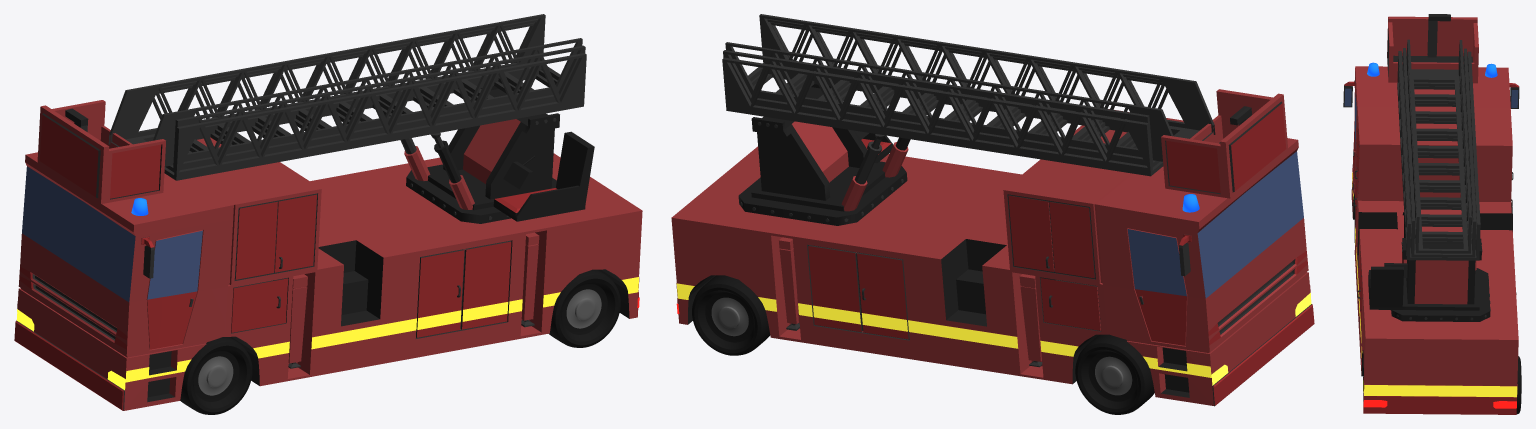
3 views of the same model, side by side, from view 1: azimuth 30°, elevation 25°; view 2: azimuth 150°, elevation 25°; view 3: azimuth 270°, elevation 25° (orthographic). The views are drawn at different scales.
Parts seen in each view (by area): view 1: Fire_Engine_Ladder_Body_0, Fire_Engine_Ladder_Ladder3_13, Fire_Engine_Ladder_Ladder1_11, Fire_Engine_Ladder_Plateform_18, Fire_Engine_Ladder_Ladder2_12, Fire_Engine_Ladder_Work_Plateform_19, Fire_Engine_Ladder_RF_Tire_4, Fire_Engine_Ladder_RB_Tire_3, Fire_Engine_Ladder_pilar_left_1_1_14, Fire_Engine_Ladder_pilar_left_2_1_15, Fire_Engine_Ladder_jack_left_7, Fire_Engine_Ladder_jack_right_9; view 2: Fire_Engine_Ladder_Body_0, Fire_Engine_Ladder_Ladder3_13, Fire_Engine_Ladder_Ladder1_11, Fire_Engine_Ladder_Plateform_18, Fire_Engine_Ladder_Ladder2_12, Fire_Engine_Ladder_Work_Plateform_19, Fire_Engine_Ladder_LF_Tire_2, Fire_Engine_Ladder_LB_Tire_1, Fire_Engine_Ladder_pilar_right_1_1_16, Fire_Engine_Ladder_pilar_right_2_1_17, Fire_Engine_Ladder_jack_right_9, Fire_Engine_Ladder_jack_left_7; view 3: Fire_Engine_Ladder_Body_0, Fire_Engine_Ladder_Plateform_18, Fire_Engine_Ladder_Ladder3_13, Fire_Engine_Ladder_Work_Plateform_19, Fire_Engine_Ladder_Ladder2_12, Fire_Engine_Ladder_Ladder1_11, Fire_Engine_Ladder_LB_Tire_1.
Part boxes in pixels (<box>): Fire_Engine_Ladder_Body_0: <box>14,137,642,410</box>; Fire_Engine_Ladder_Ladder3_13: <box>108,14,582,166</box>; Fire_Engine_Ladder_Ladder1_11: <box>152,22,586,180</box>; Fire_Engine_Ladder_Plateform_18: <box>406,86,594,223</box>; Fire_Engine_Ladder_Ladder2_12: <box>156,18,585,172</box>; Fire_Engine_Ladder_Work_Plateform_19: <box>37,100,165,203</box>; Fire_Engine_Ladder_RF_Tire_4: <box>180,337,252,414</box>; Fire_Engine_Ladder_RB_Tire_3: <box>548,269,620,347</box>; Fire_Engine_Ladder_pilar_left_1_1_14: <box>288,274,307,363</box>; Fire_Engine_Ladder_pilar_left_2_1_15: <box>521,232,539,320</box>; Fire_Engine_Ladder_jack_left_7: <box>434,140,474,209</box>; Fire_Engine_Ladder_jack_right_9: <box>400,138,430,181</box>; Fire_Engine_Ladder_Body_0: <box>671,109,1314,406</box>; Fire_Engine_Ladder_Ladder3_13: <box>725,14,1215,161</box>; Fire_Engine_Ladder_Ladder1_11: <box>722,22,1168,176</box>; Fire_Engine_Ladder_Plateform_18: <box>738,84,907,225</box>; Fire_Engine_Ladder_Ladder2_12: <box>723,18,1175,167</box>; Fire_Engine_Ladder_Work_Plateform_19: <box>1161,89,1288,198</box>; Fire_Engine_Ladder_LF_Tire_2: <box>1075,334,1154,414</box>; Fire_Engine_Ladder_LB_Tire_1: <box>692,275,770,355</box>; Fire_Engine_Ladder_pilar_right_1_1_16: <box>1019,274,1041,361</box>; Fire_Engine_Ladder_pilar_right_2_1_17: <box>779,237,798,324</box>; Fire_Engine_Ladder_jack_right_9: <box>841,141,881,211</box>; Fire_Engine_Ladder_jack_left_7: <box>882,137,910,177</box>; Fire_Engine_Ladder_Body_0: <box>1343,66,1519,414</box>; Fire_Engine_Ladder_Plateform_18: <box>1368,238,1490,321</box>; Fire_Engine_Ladder_Ladder3_13: <box>1406,39,1471,253</box>; Fire_Engine_Ladder_Work_Plateform_19: <box>1387,14,1478,83</box>; Fire_Engine_Ladder_Ladder2_12: <box>1402,48,1476,257</box>; Fire_Engine_Ladder_Ladder1_11: <box>1397,51,1480,260</box>; Fire_Engine_Ladder_LB_Tire_1: <box>1516,356,1521,414</box>.
Size of the model in its own units: 5.97 by 3.35 by 2.33.
